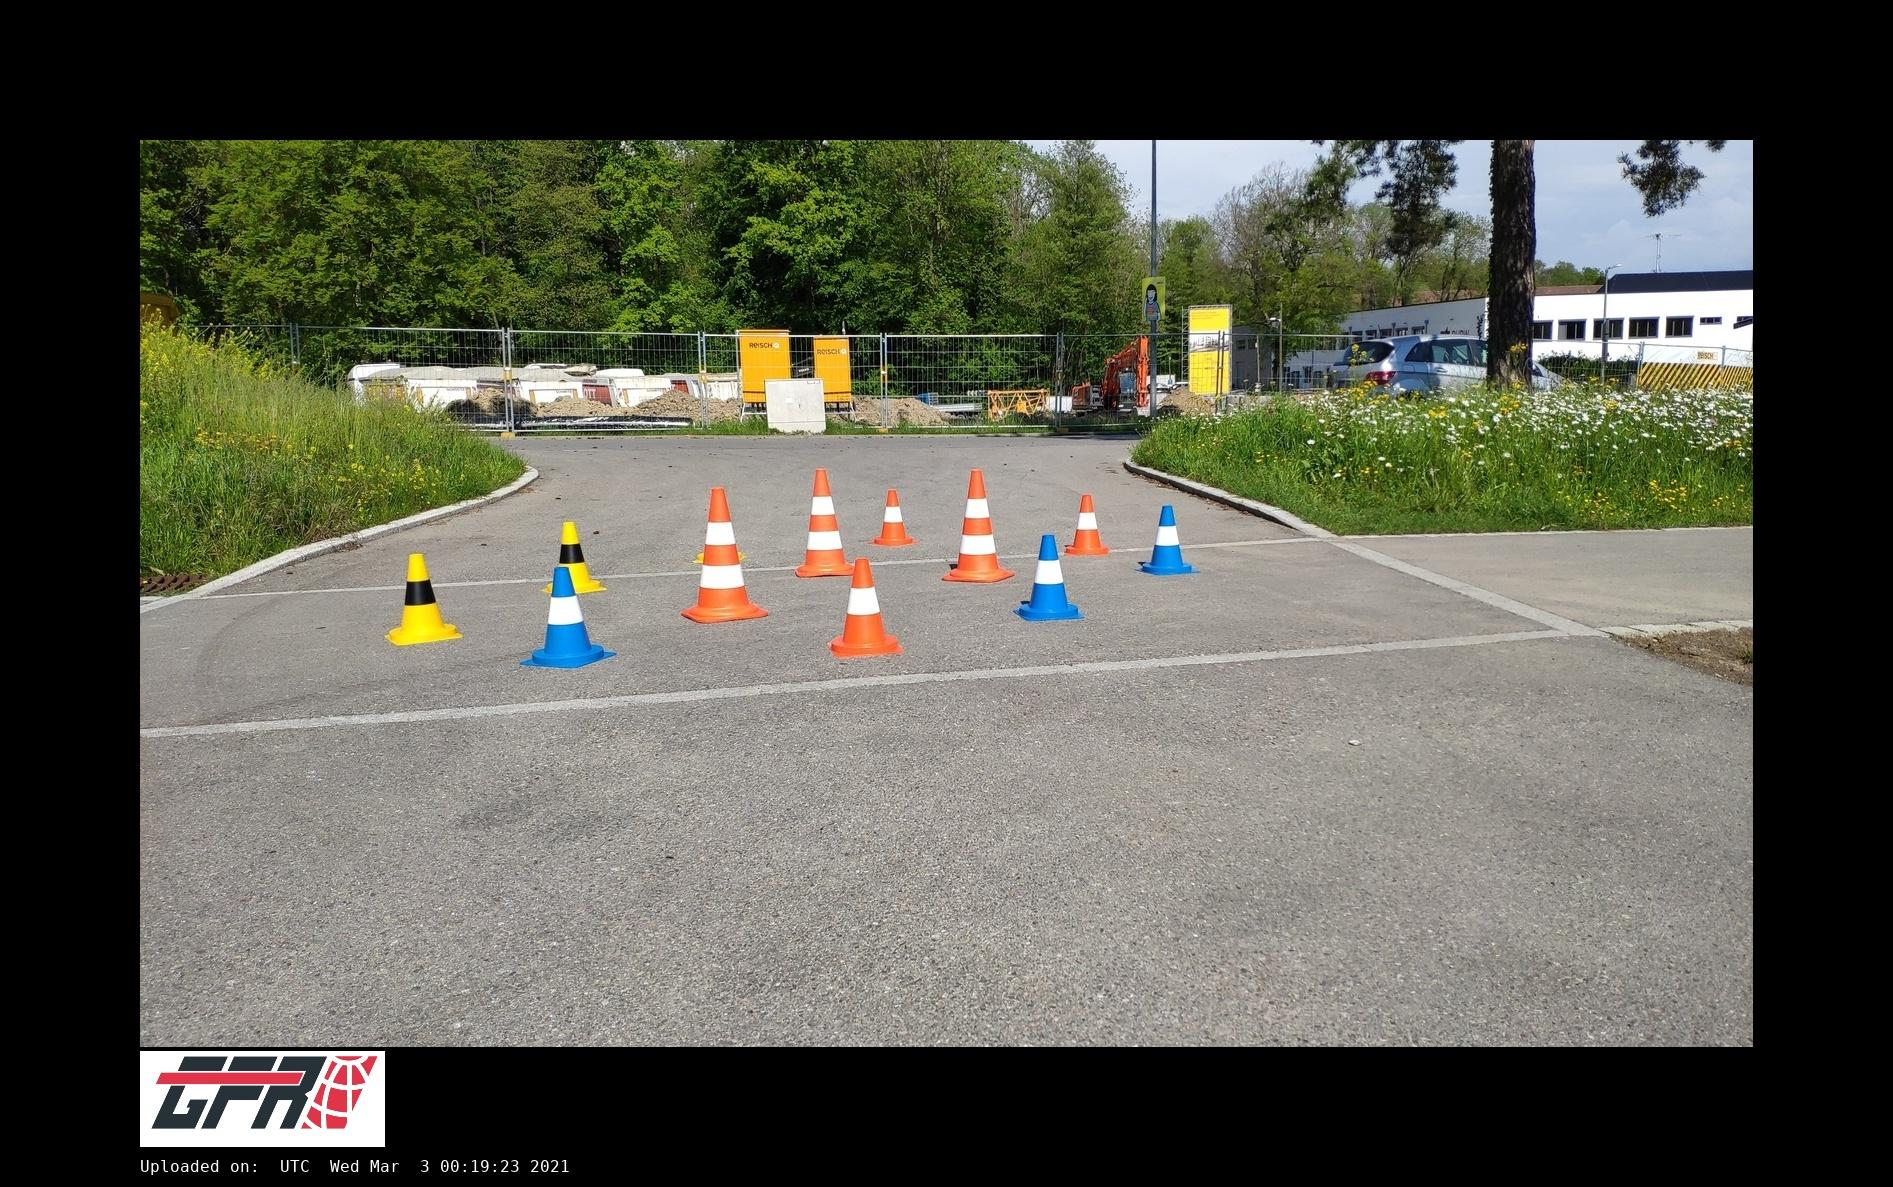blue_cone: (520, 567, 616, 668), (1013, 534, 1085, 621), (1134, 505, 1201, 576)
large_orange_cone: (682, 488, 767, 624), (942, 471, 1013, 582), (795, 469, 853, 576)
orange_cone: (829, 558, 902, 657), (1064, 494, 1109, 555), (870, 490, 914, 546)
yellow_cone: (385, 553, 461, 645), (541, 521, 607, 594)
